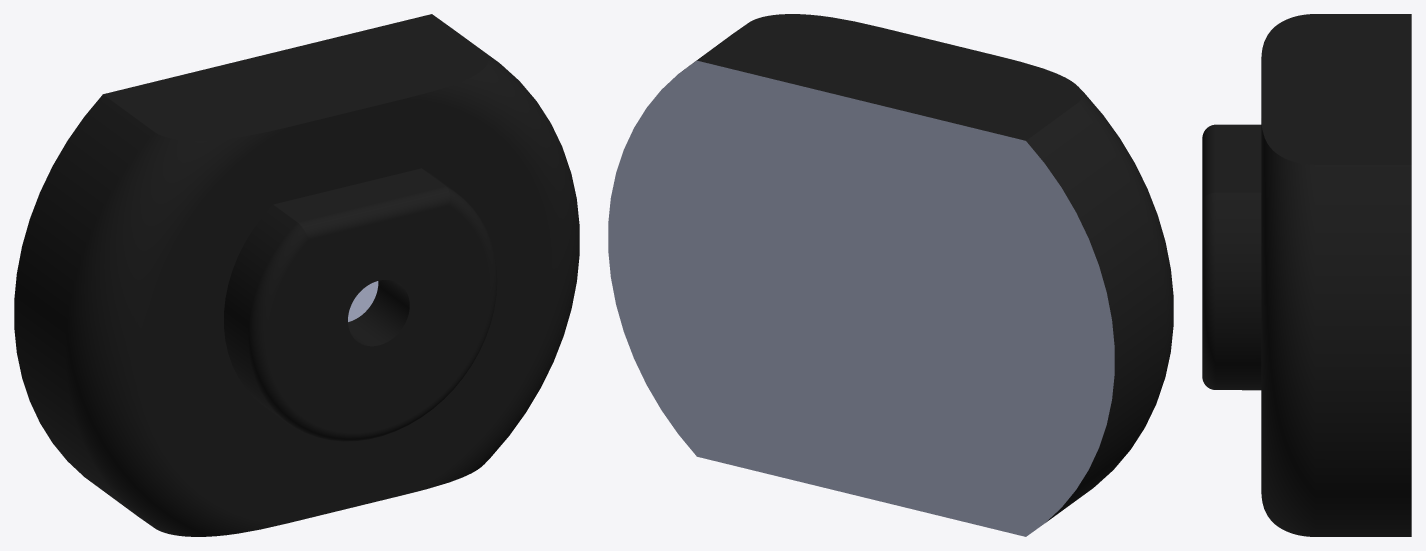
The model's file is Gear_Motor__1__Cut_Extrude7_1_.obj.
3 views of the same model, side by side, from view 1: azimuth 30°, elevation 25°; view 2: azimuth 150°, elevation 25°; view 3: azimuth 270°, elevation 25° (orthographic). The views are drawn at different scales.
Parts seen in each view (by area): view 1: mesh7556, mesh7557, mesh7551, mesh7559, mesh7558, mesh7563, mesh7553, mesh7555, mesh7554, mesh7552, mesh7550; view 2: mesh7561, mesh7559, mesh7558, mesh7557; view 3: mesh7562, mesh7559, mesh7563, mesh7555, mesh7554, mesh7553, mesh7552.
Boxes of the visible parts, box(x1,y1,x2,y2) form: mesh7556: box(143, 98, 551, 523); mesh7557: box(65, 127, 286, 536); mesh7551: box(267, 205, 490, 432); mesh7559: box(103, 14, 488, 140); mesh7558: box(14, 94, 153, 515); mesh7563: box(407, 53, 579, 493); mesh7553: box(248, 186, 497, 441); mesh7555: box(224, 170, 451, 418); mesh7554: box(273, 168, 445, 222); mesh7552: box(298, 186, 449, 239); mesh7550: box(348, 280, 409, 346); mesh7561: box(608, 60, 1114, 536); mesh7559: box(697, 14, 1082, 140); mesh7558: box(1026, 103, 1165, 522); mesh7557: box(1077, 89, 1173, 484); mesh7562: box(1315, 165, 1411, 536); mesh7559: box(1261, 14, 1411, 164); mesh7563: box(1261, 118, 1314, 536); mesh7555: box(1215, 192, 1261, 390); mesh7554: box(1215, 124, 1261, 192); mesh7553: box(1202, 192, 1215, 389); mesh7552: box(1202, 124, 1215, 200).
Bounding box in the file's own units: 0.0205 × 0.0153 × 0.0078.
